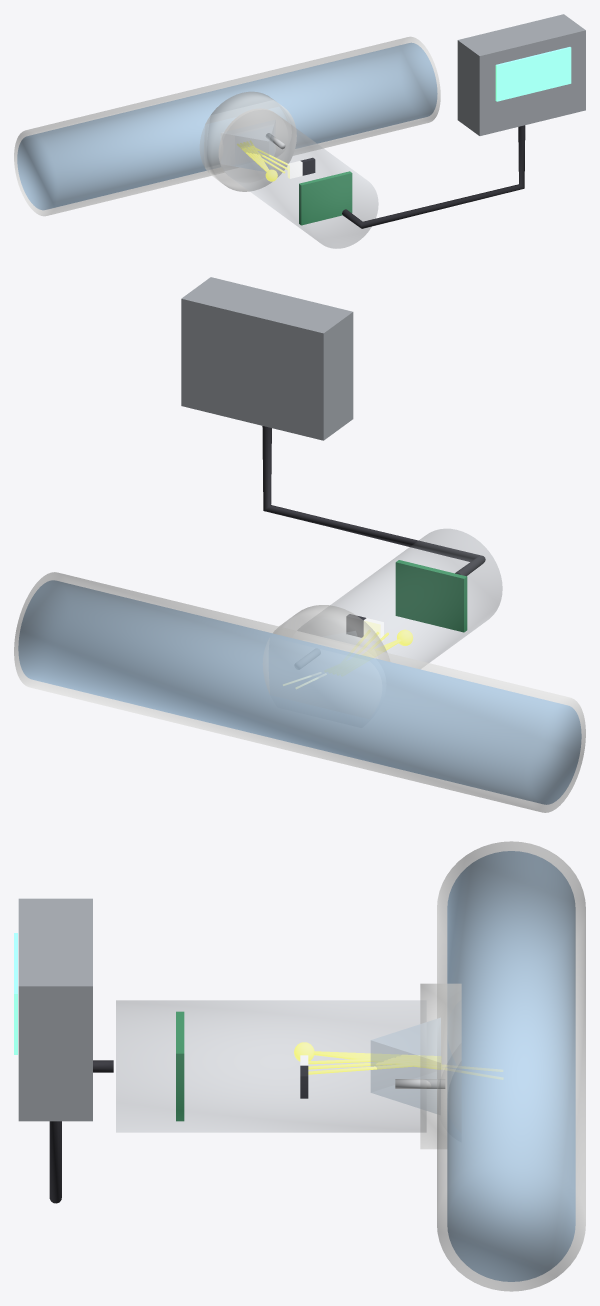
The model's file is refract.glb.
3 renders of one model, top to bottom at view 1: azimuth 30°, elevation 25°; view 2: azimuth 150°, elevation 25°; view 3: azimuth 270°, elevation 25°, orthographic. The views are drawn at different scales.
Visible parts, largest first — view 1: 配管, 配管_液, 传感器外壳, 变送器, 安装口, 变送器_屏, 电路板, 电缆, 测量棱镜; view 2: 配管, 配管_液, 变送器, 传感器外壳, 电路板, 安装口, 电缆; view 3: 配管, 配管_液, 传感器外壳, 变送器, 安装口, 测量棱镜, 电缆, 电路板.
Boxes of the visible parts, x1,y1,x2,y2 form: 配管: (14, 36, 440, 216); 配管_液: (17, 42, 437, 210); 传感器外壳: (219, 109, 378, 248); 变送器: (457, 14, 585, 135); 安装口: (200, 91, 296, 191); 变送器_屏: (495, 47, 571, 101); 电路板: (299, 171, 352, 225); 电缆: (342, 125, 525, 228); 测量棱镜: (221, 126, 273, 171); 配管: (14, 572, 585, 812); 配管_液: (18, 580, 581, 804); 变送器: (181, 277, 353, 440); 传感器外壳: (297, 529, 502, 668); 电路板: (395, 560, 467, 632); 安装口: (263, 605, 389, 692); 电缆: (262, 426, 485, 576); 配管: (437, 841, 585, 1291); 配管_液: (447, 851, 575, 1281); 传感器外壳: (116, 1000, 425, 1132); 变送器: (18, 898, 92, 1121); 安装口: (420, 983, 461, 1149); 测量棱镜: (371, 1018, 440, 1113); 电缆: (49, 1060, 113, 1203); 电路板: (176, 1011, 184, 1121).
Bounding box in the file's own units: 1.9 × 0.88 × 1.38.
